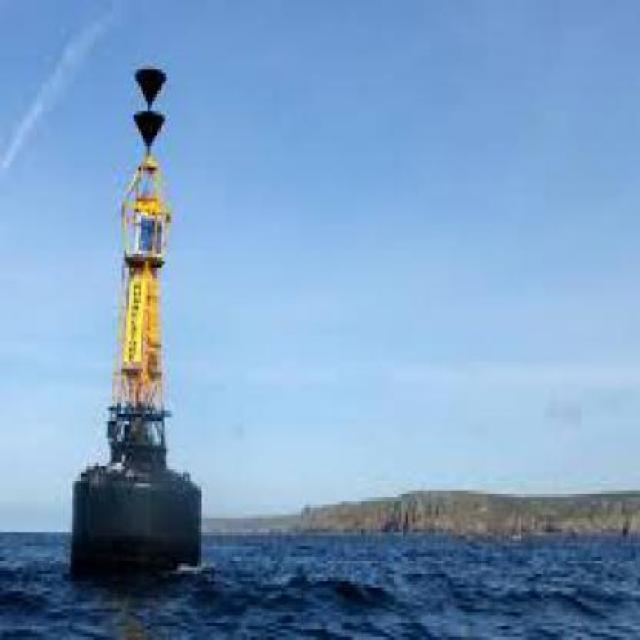buoy: (64, 53, 215, 586)
